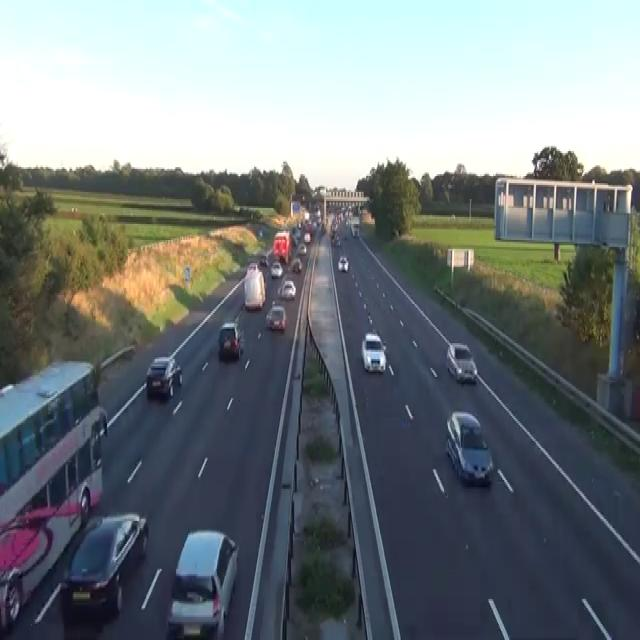Car: (0, 503, 83, 629), (62, 512, 148, 615), (166, 528, 238, 638), (445, 411, 493, 485), (146, 354, 182, 398), (0, 565, 23, 631), (446, 341, 477, 384), (361, 332, 386, 372), (218, 322, 244, 359), (281, 451, 296, 489), (265, 304, 286, 331), (277, 279, 296, 299), (98, 406, 107, 436), (246, 262, 260, 278), (337, 254, 349, 272), (270, 262, 283, 278), (0, 382, 13, 397), (291, 256, 302, 272), (259, 254, 268, 267), (297, 242, 306, 254), (303, 231, 310, 244), (331, 235, 340, 245), (320, 222, 325, 233), (259, 230, 263, 237)
Truck: (0, 357, 107, 631), (243, 262, 265, 310), (272, 229, 291, 263), (350, 215, 359, 237)
